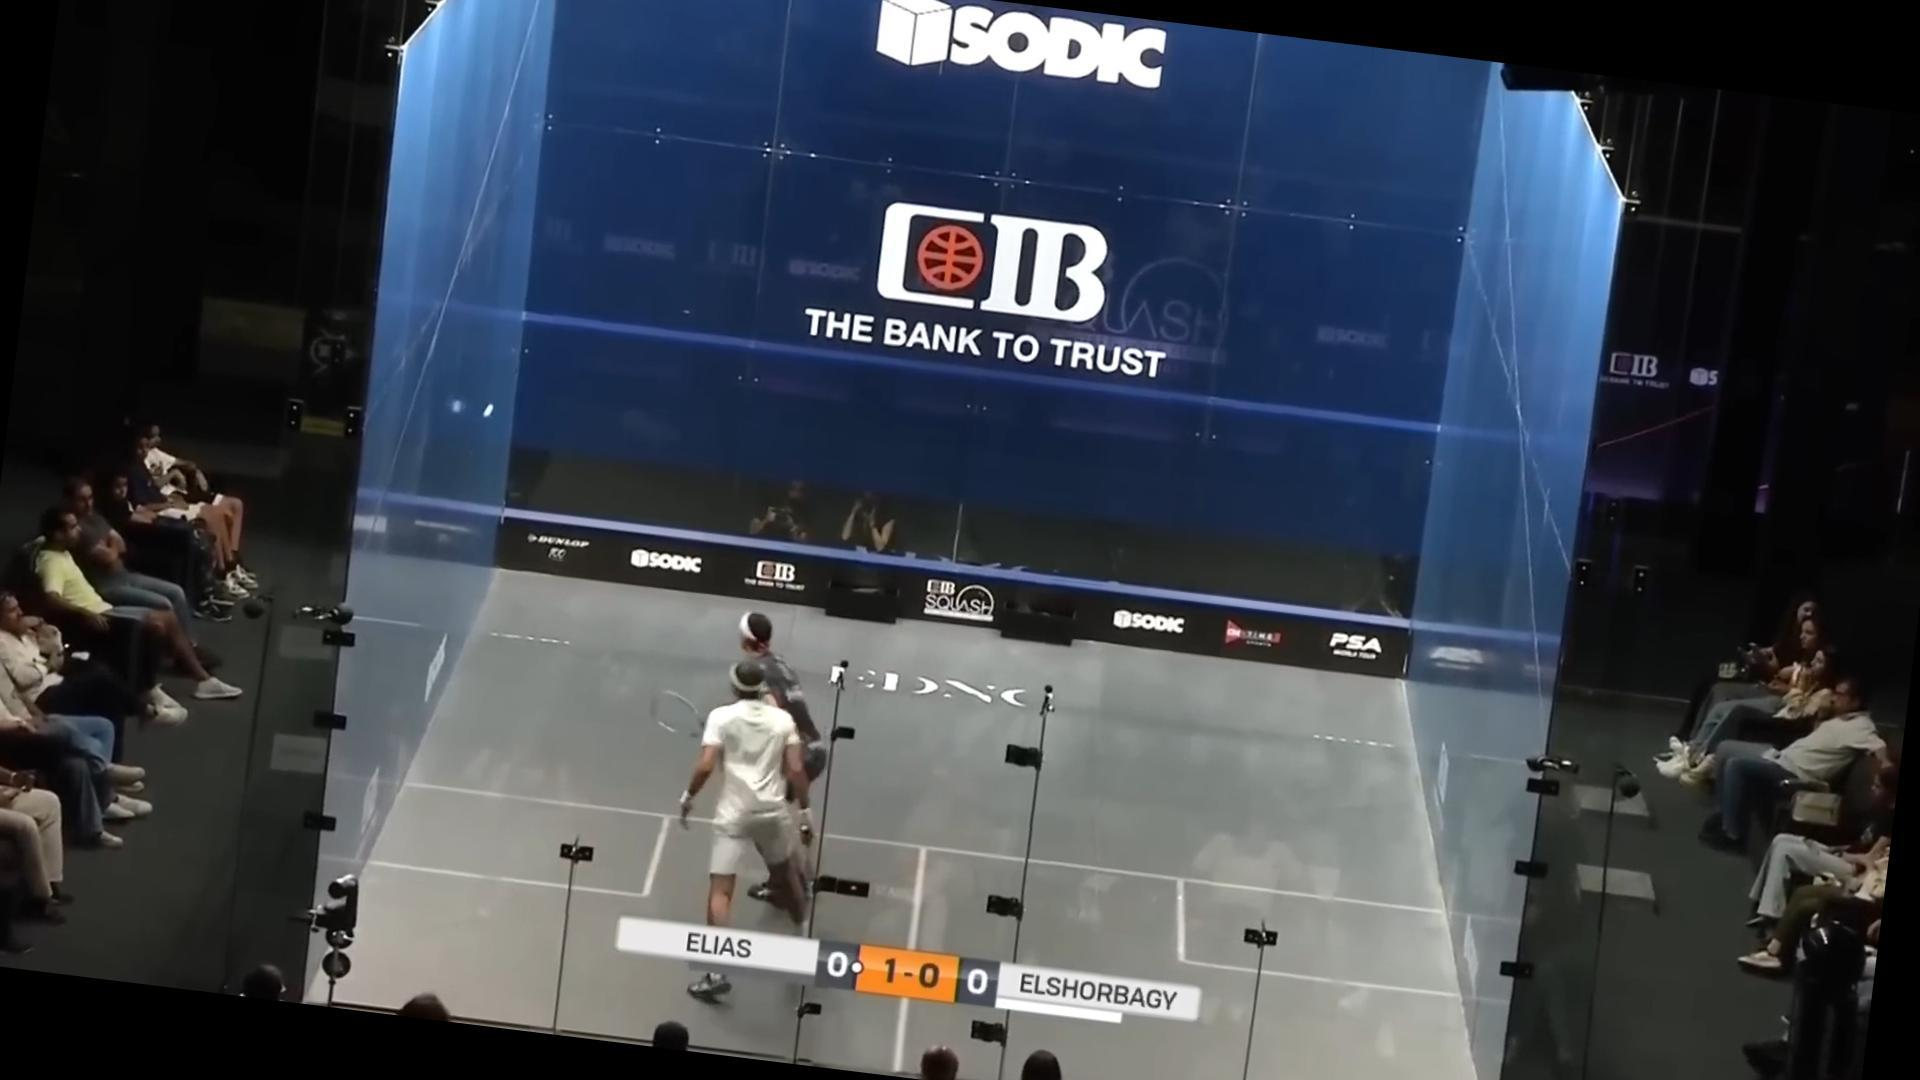Squash-Ball: (469, 393, 506, 431)
